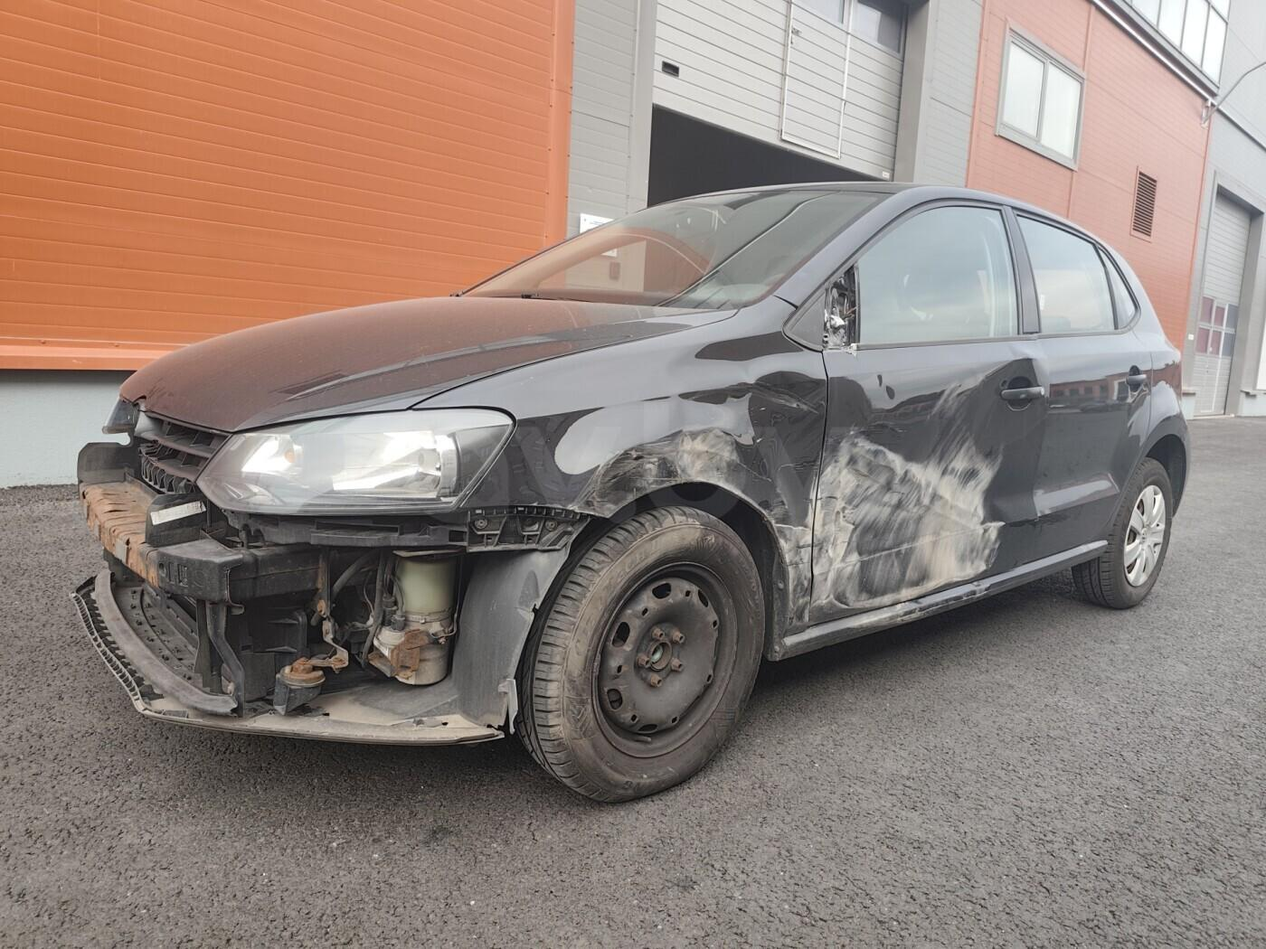Polo_2009-2015: (46, 170, 1221, 858)
